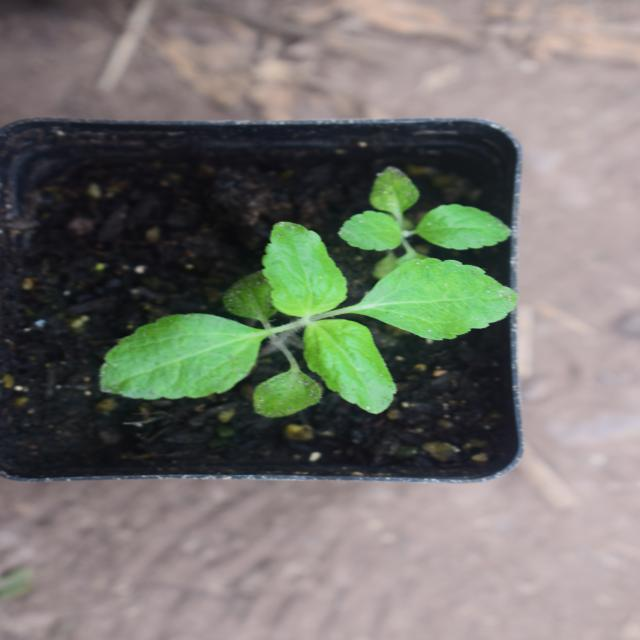billygoat_weed: (252, 126, 414, 544)
